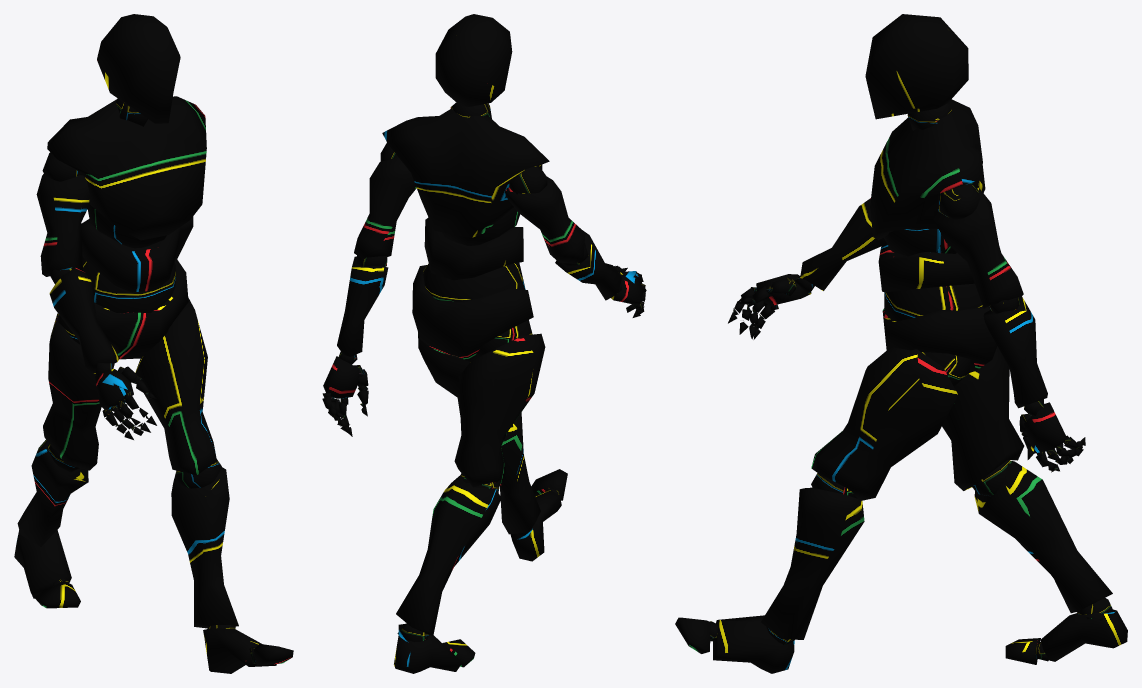
Rendered from y-bot-origin_000020.obj.
3 views of the same model, side by side, from view 1: azimuth 30°, elevation 25°; view 2: azimuth 150°, elevation 25°; view 3: azimuth 270°, elevation 25° (orthographic). The views are drawn at different scales.
Visible parts, largest first — view 1: Alpha_Surface_Alpha_SurfaceMesh, Alpha_Joints_Alpha_JointsMesh; view 2: Alpha_Surface_Alpha_SurfaceMesh, Alpha_Joints_Alpha_JointsMesh; view 3: Alpha_Surface_Alpha_SurfaceMesh, Alpha_Joints_Alpha_JointsMesh.
Part boxes in pixels (left/top/right/bottom): Alpha_Surface_Alpha_SurfaceMesh: left=14, top=14, right=293, bottom=673; Alpha_Joints_Alpha_JointsMesh: left=42, top=98, right=256, bottom=663; Alpha_Surface_Alpha_SurfaceMesh: left=322, top=14, right=646, bottom=673; Alpha_Joints_Alpha_JointsMesh: left=322, top=102, right=645, bottom=641; Alpha_Surface_Alpha_SurfaceMesh: left=675, top=14, right=1127, bottom=673; Alpha_Joints_Alpha_JointsMesh: left=710, top=103, right=1113, bottom=661.
Bounding box in the file's own units: 0.5795 × 1.74 × 1.09.
